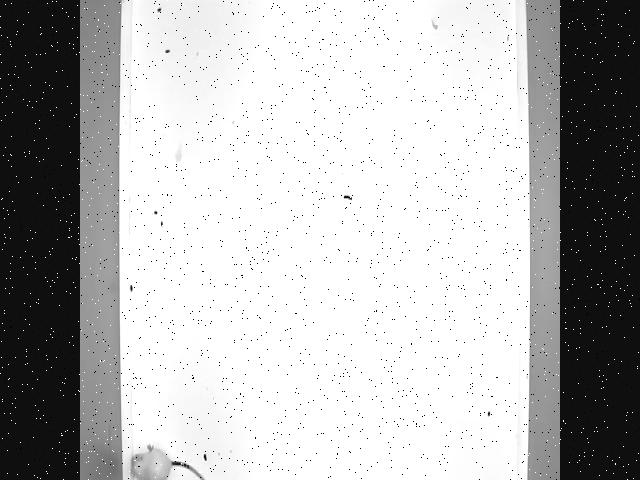Tikus: (124, 430, 226, 480)
